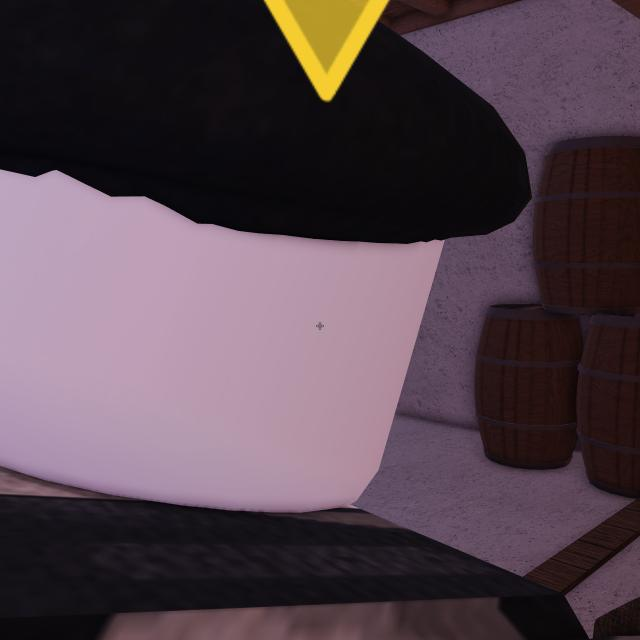Head: (0, 0, 530, 512)
